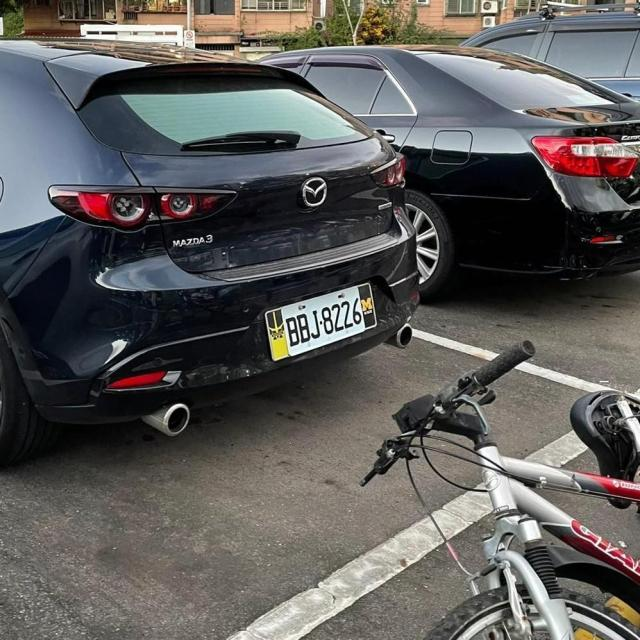W: (256, 275, 388, 369)
